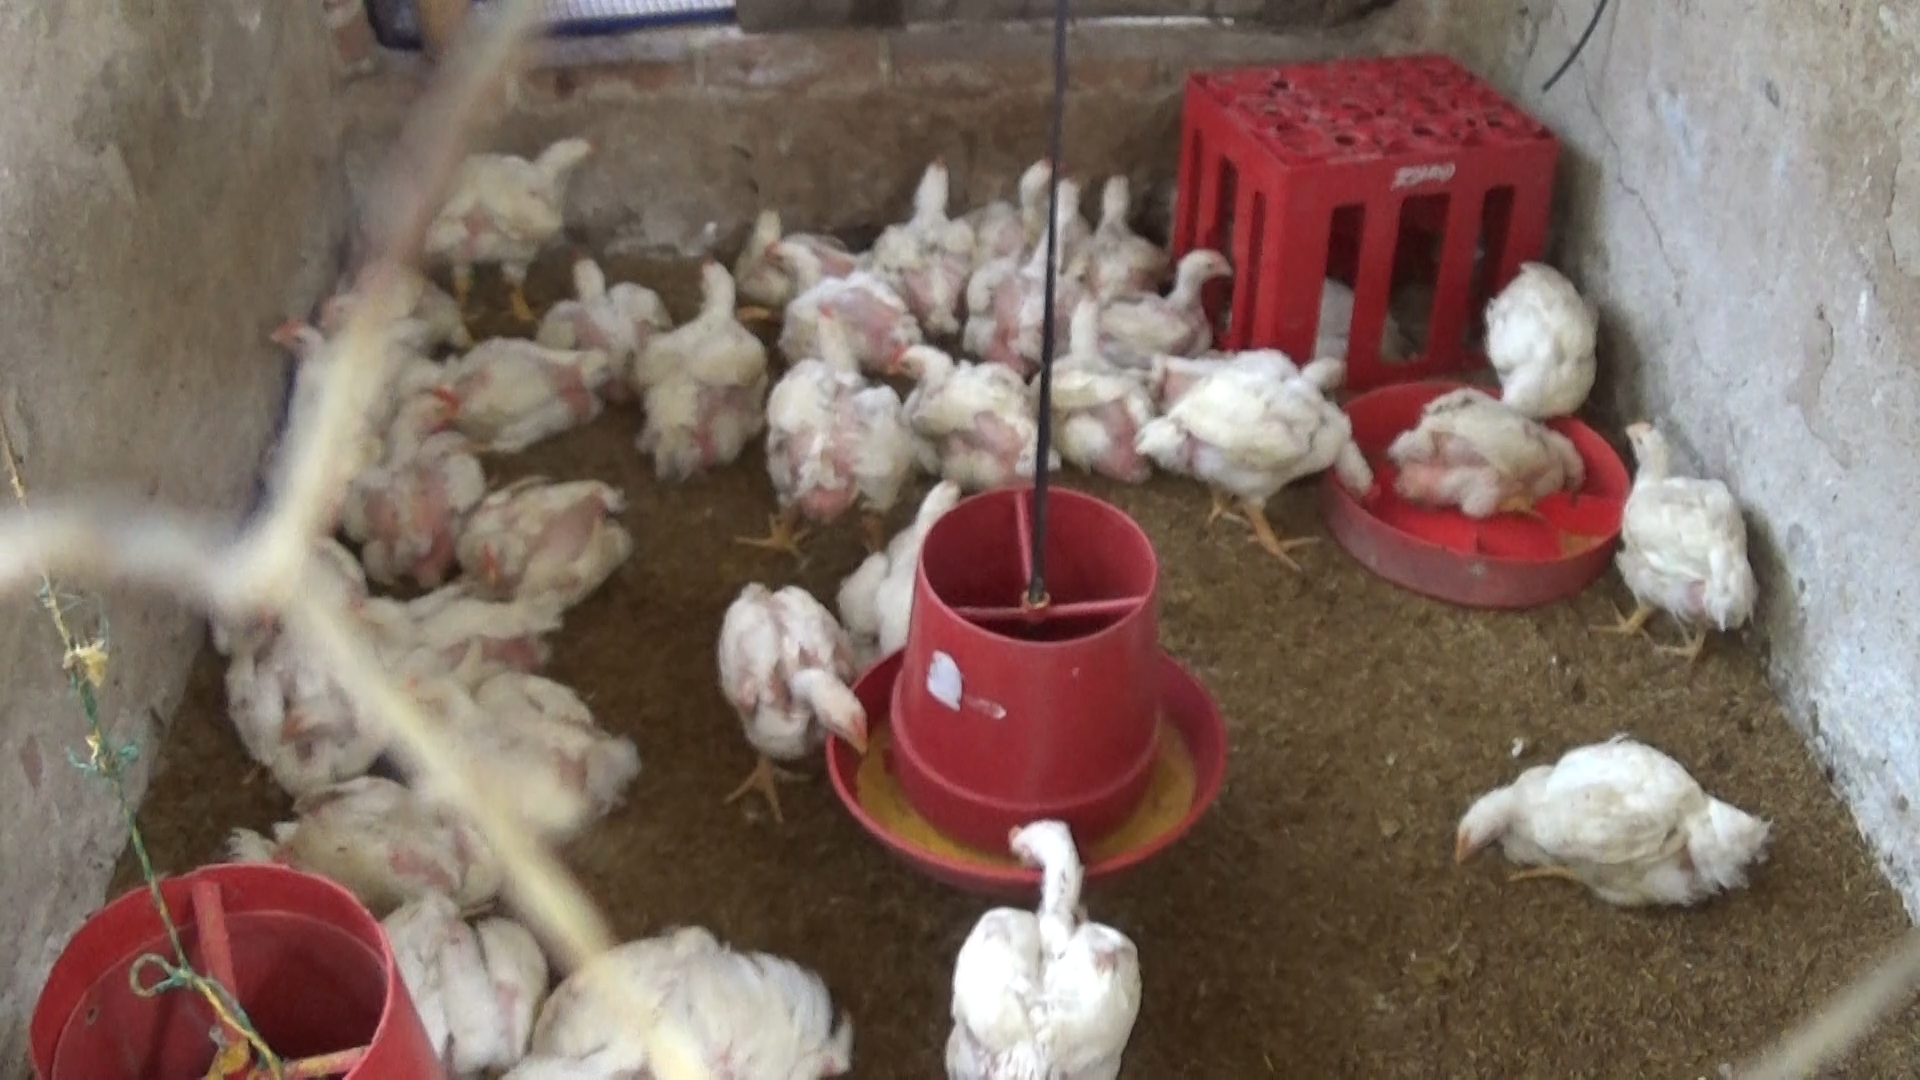Pollos: (1440, 721, 1771, 928), (496, 907, 858, 1080), (934, 812, 1151, 1080), (1130, 338, 1386, 558), (396, 651, 641, 824), (1604, 413, 1766, 671), (322, 367, 502, 597), (713, 563, 870, 828), (404, 128, 609, 316), (229, 773, 495, 907), (764, 298, 906, 531), (630, 252, 775, 477), (835, 454, 977, 676), (1386, 375, 1600, 522), (214, 613, 392, 783), (451, 469, 657, 608), (874, 328, 1042, 483), (411, 334, 633, 448), (529, 251, 686, 409), (858, 153, 992, 338), (1474, 252, 1607, 422), (1035, 293, 1146, 483), (1073, 247, 1240, 359), (1001, 156, 1091, 343), (737, 200, 877, 307), (1067, 152, 1156, 277), (255, 305, 322, 447), (973, 145, 1058, 251)
